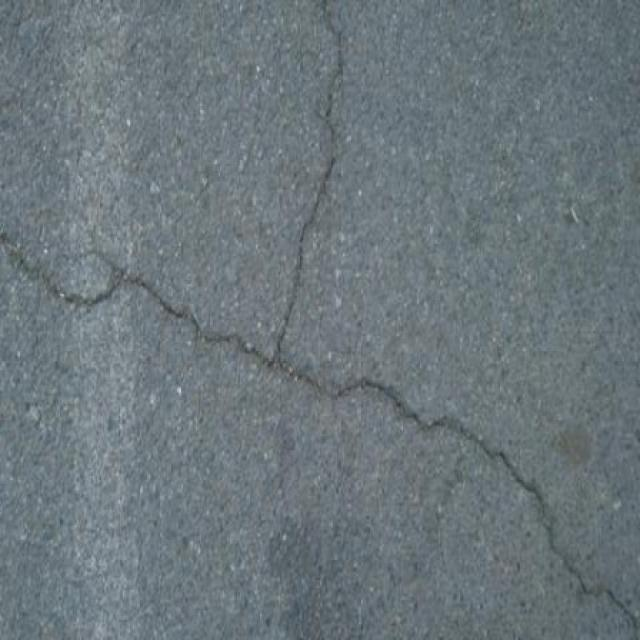Diagonal Crack: (0, 0, 640, 638)
